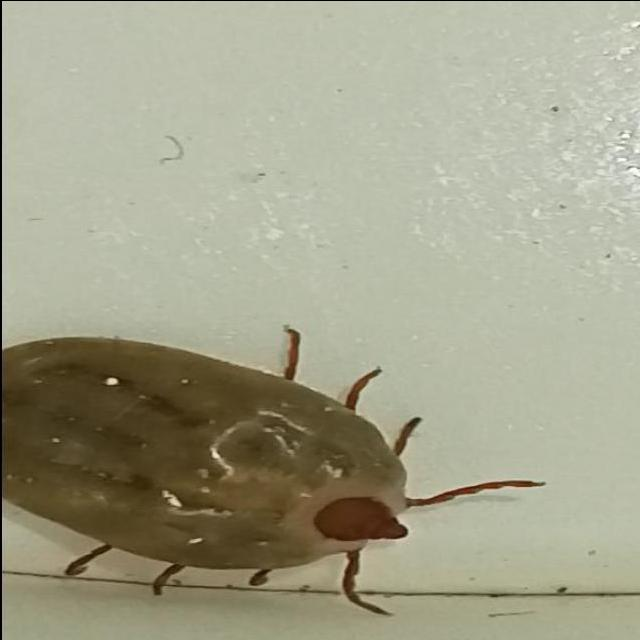Rhipicephalus Sanguineus-F-Fed: (0, 324, 543, 613)
